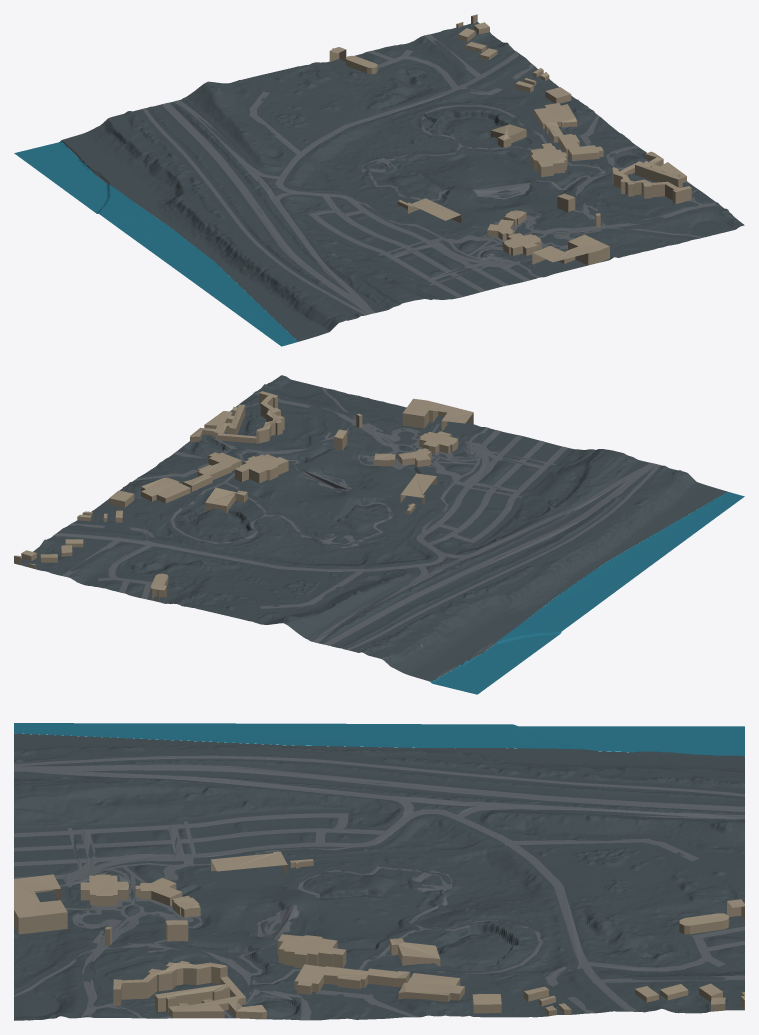
Rendered from epsg26910-1415-10875.lod0.glb.
3 views of the same model, one above another, from view 1: azimuth 30°, elevation 25°; view 2: azimuth 150°, elevation 25°; view 3: azimuth 270°, elevation 25° (orthographic). The views are drawn at different scales.
Visible parts, largest first — view 1: epsg26910-1415-10875-lod0; view 2: epsg26910-1415-10875-lod0; view 3: epsg26910-1415-10875-lod0.
Boxes of the visible parts, <box> form: epsg26910-1415-10875-lod0: <box>14,14,744,346</box>; epsg26910-1415-10875-lod0: <box>14,375,744,694</box>; epsg26910-1415-10875-lod0: <box>14,723,744,1020</box>.
Size of the model in its own units: 384 by 21.49 by 384.
